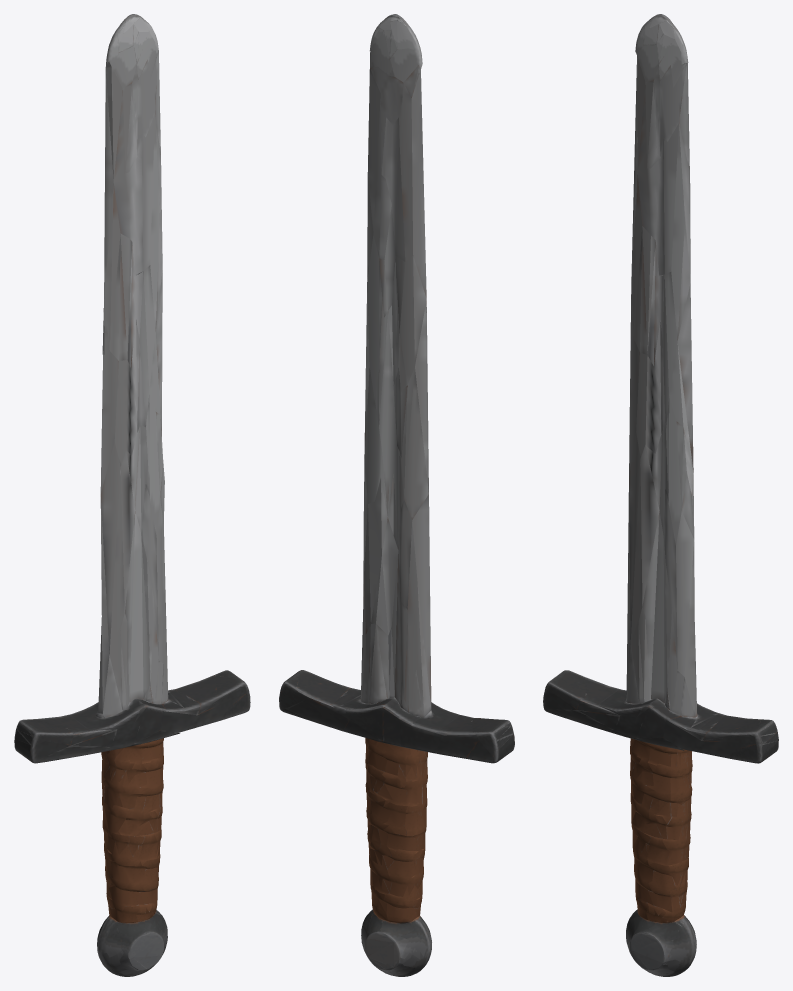
The model's file is iron_sword.glb.
3 renders of one model, left to right at view 1: azimuth 30°, elevation 25°; view 2: azimuth 150°, elevation 25°; view 3: azimuth 330°, elevation 25°, orthographic.
Size of the model in its own units: 0.4554 by 1.9 by 0.1075.
Materials: 1 (1 with a texture image).
